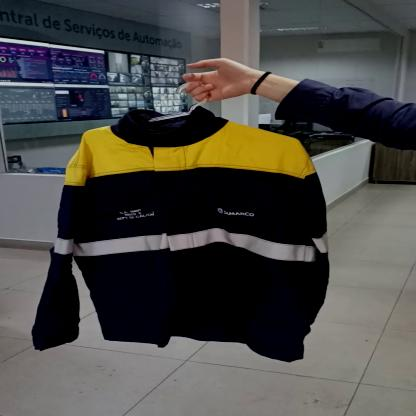C_eletrica: (28, 108, 338, 363)
